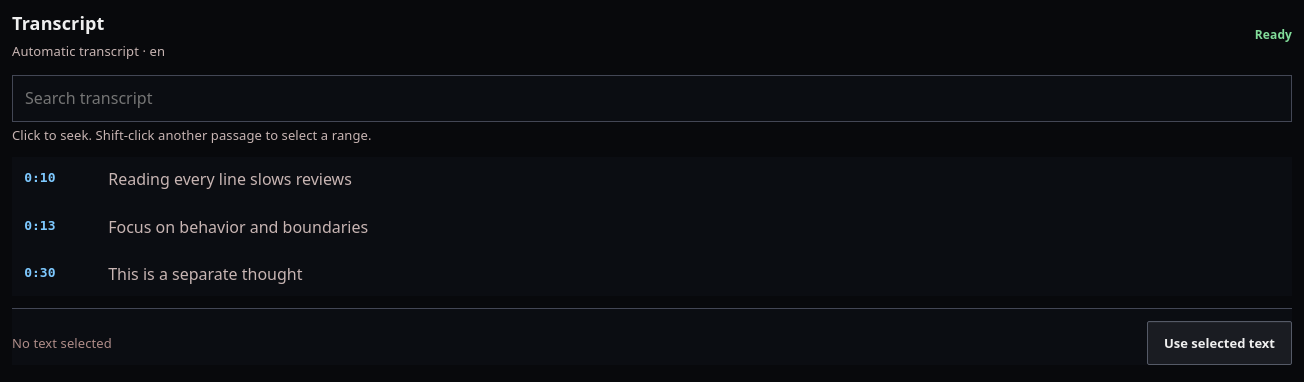
Test: TranscriptPanel › filters the visible transcript without changing its timestamps
Type "boundaries" into the search field labelled "Search transcript".
click(652, 99); type("boundaries")  # box [12,75,1292,122]
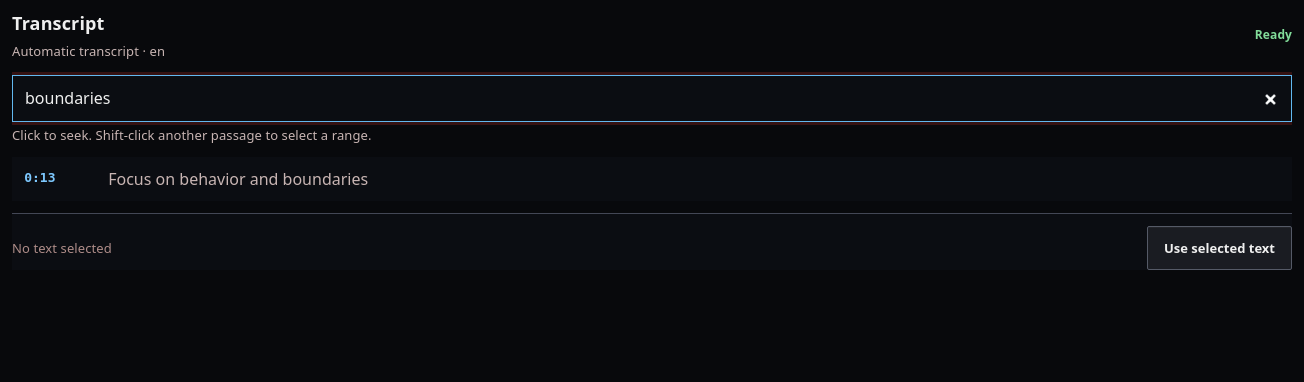
Expected: the text "Focus on behavior and boundaries" is shown, [108,168,368,190]
Now the button "Reading every line slows reviews" is gone
